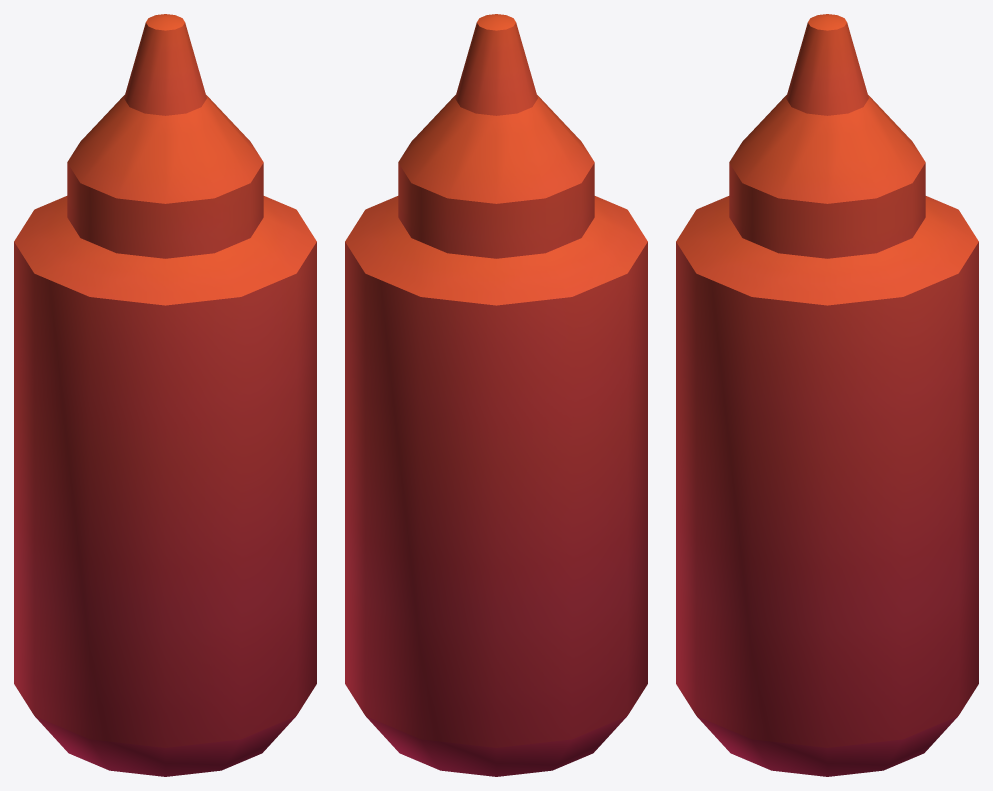
Rendered from ketchup.glb.
The picture shows the model from 3 angles, left to right: view 1: azimuth 30°, elevation 25°; view 2: azimuth 150°, elevation 25°; view 3: azimuth 270°, elevation 25°; orthographic projection.
Visible parts, largest first — view 1: ketchup; view 2: ketchup; view 3: ketchup.
Boxes of the visible parts, bbox=[...] form: ketchup: bbox=[14, 14, 316, 776]; ketchup: bbox=[345, 14, 647, 776]; ketchup: bbox=[676, 14, 978, 776].
Bounding box in the file's own units: 0.3 × 0.7785 × 0.3.
Materials: 1 (1 with a texture image).
